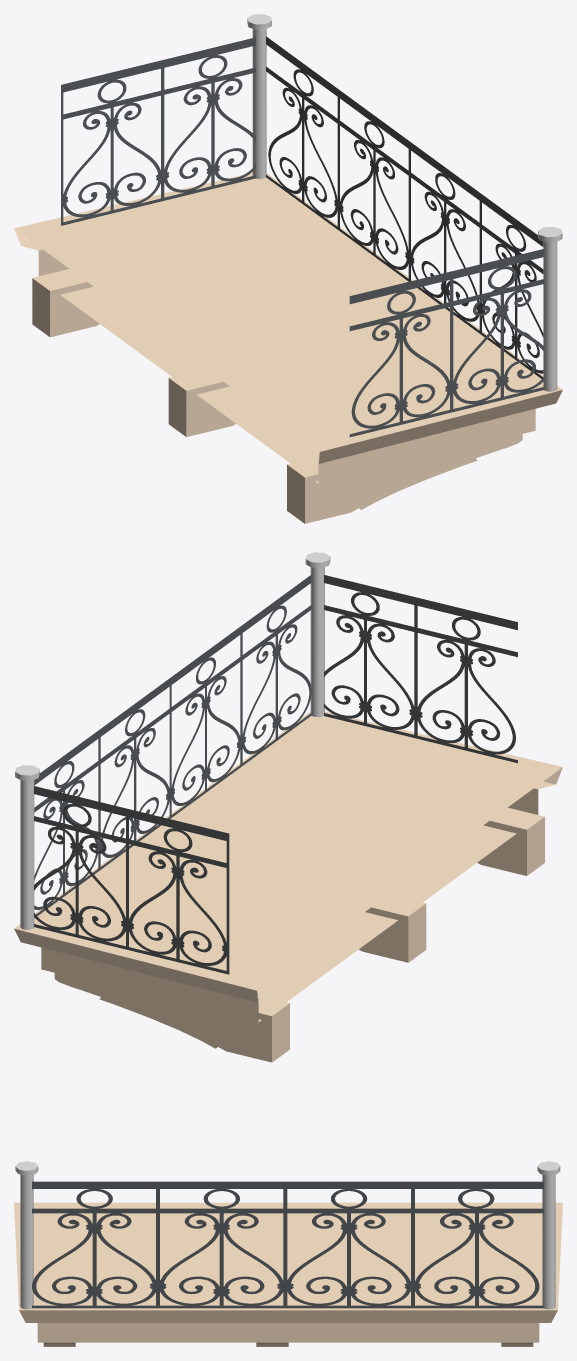
Rendered from Balcony.fbx.
3 renders of one model, top to bottom at view 1: azimuth 30°, elevation 25°; view 2: azimuth 150°, elevation 25°; view 3: azimuth 270°, elevation 25°, orthographic. The views are drawn at different scales.
Parts seen in each view (by area): view 1: Balcony; view 2: Balcony; view 3: Balcony.
Part boxes in pixels (box(x1,y1,x2,y2)): Balcony: box(14, 14, 562, 523); Balcony: box(14, 552, 562, 1062); Balcony: box(14, 1161, 562, 1346).
Bounding box in the file's own units: 139 × 130 × 295.
